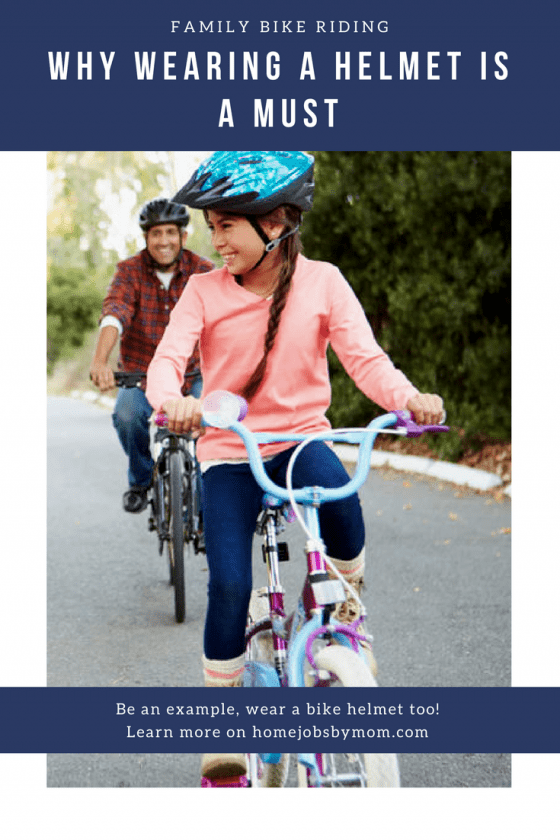helmet: (171, 150, 316, 274), (138, 198, 190, 264)
